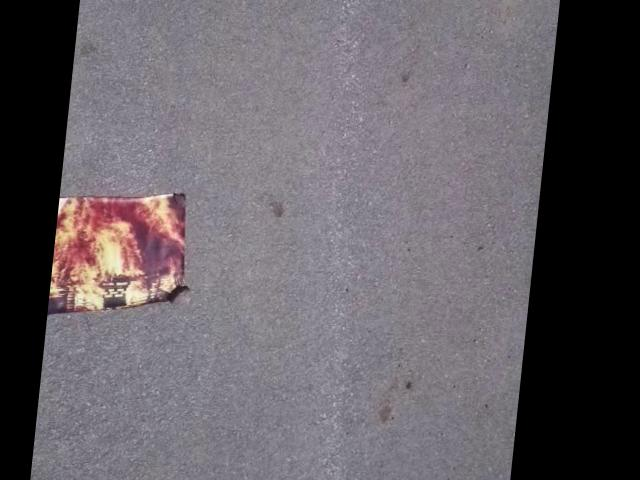fire-poster: (55, 189, 204, 316)
